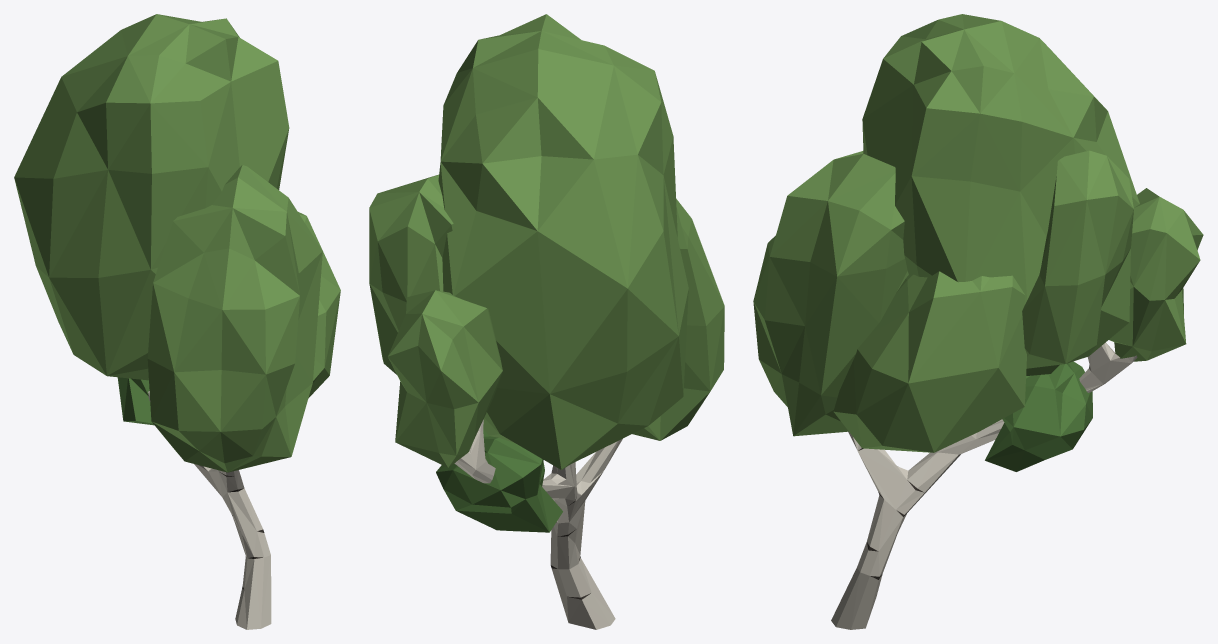
Rendered from BirchTree_1.glb.
3 views of the same model, side by side, from view 1: azimuth 30°, elevation 25°; view 2: azimuth 150°, elevation 25°; view 3: azimuth 270°, elevation 25° (orthographic). The views are drawn at different scales.
Visible parts, largest first — view 1: BirchTree_1; view 2: BirchTree_1; view 3: BirchTree_1.
Boxes of the visible parts, <box> form: BirchTree_1: <box>14,14,340,629</box>; BirchTree_1: <box>369,14,724,629</box>; BirchTree_1: <box>753,14,1203,629</box>.
Bounding box in the file's own units: 1.7 × 3.57 × 2.48.
